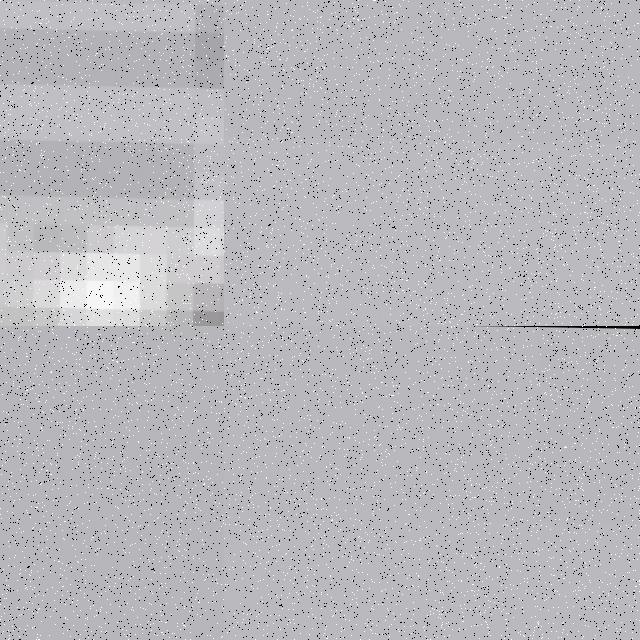drone: (0, 0, 224, 326)
